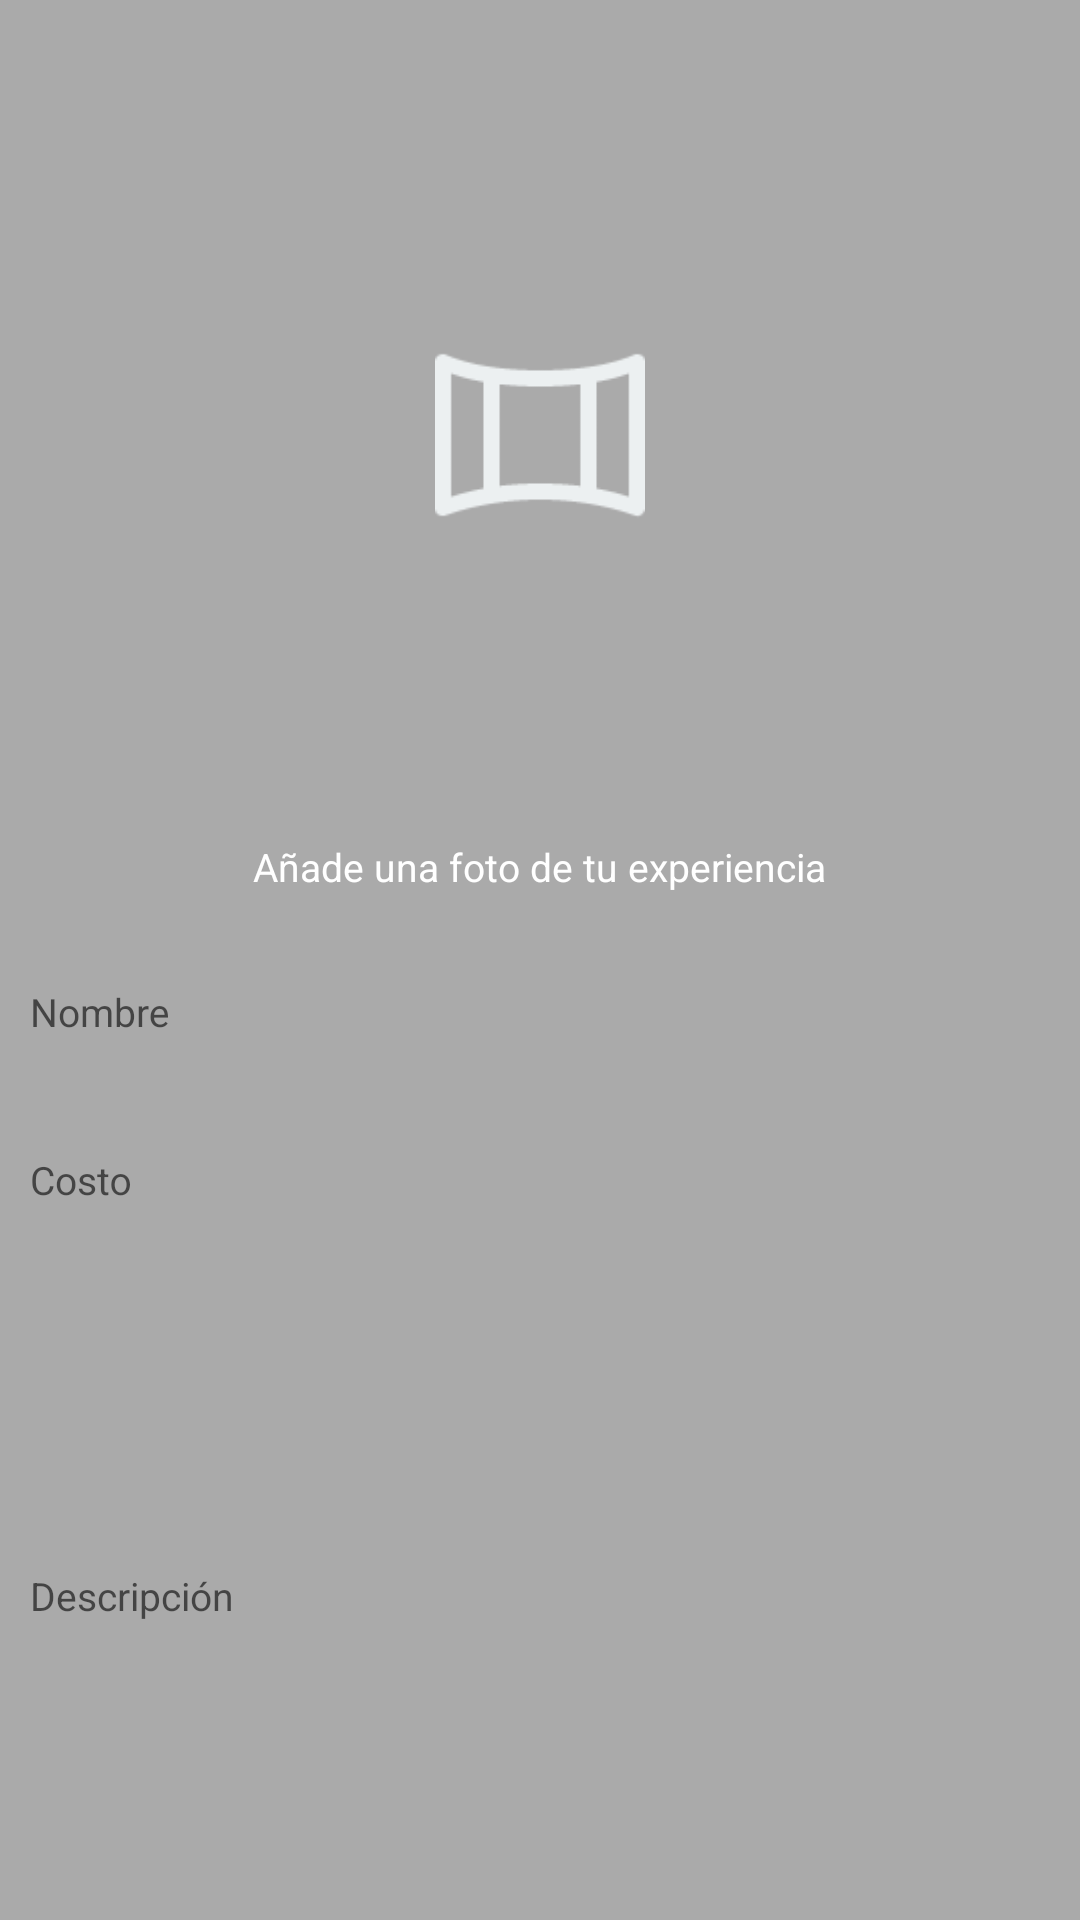

Named icons in this screenshot (1080x1920) and their bounding boxes, (x1, y1, x2, y2):
panorama: (435, 354, 645, 516)
